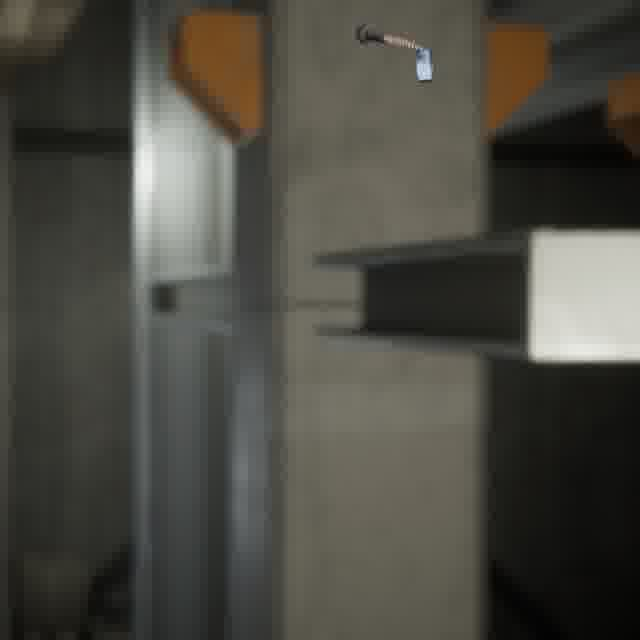bolt: (351, 17, 429, 56)
nut: (411, 45, 438, 86)
